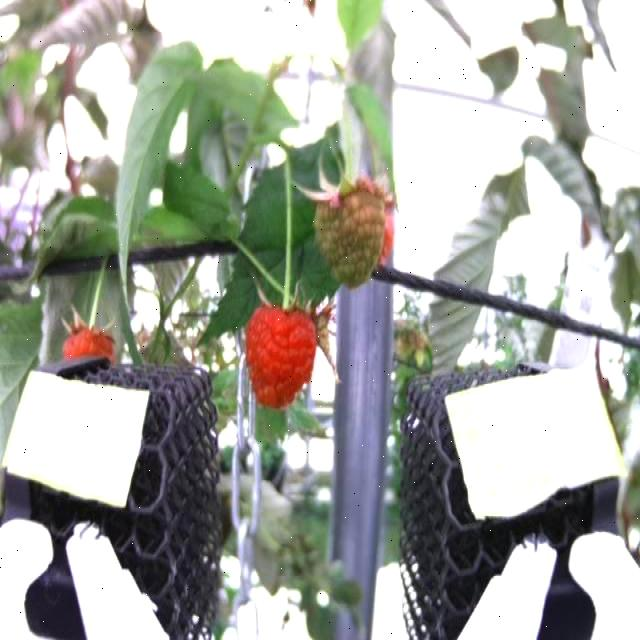Riped berries: (243, 290, 321, 410), (63, 311, 119, 368)
